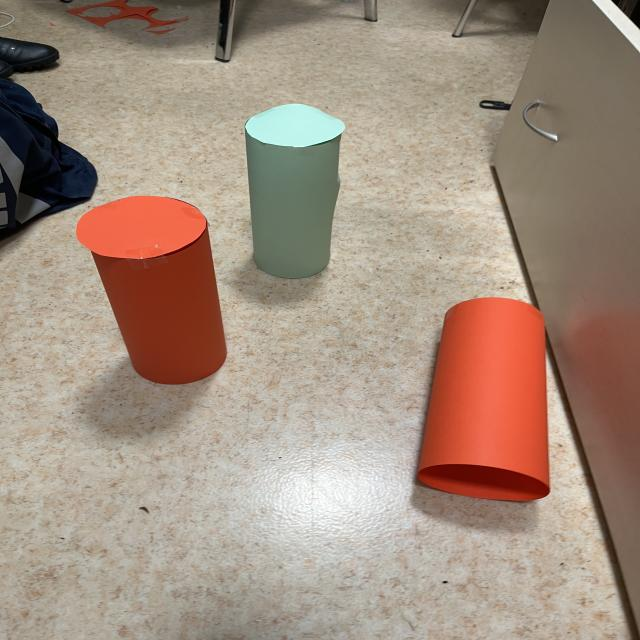meta: (245, 104, 344, 278)
przeszkoda: (76, 196, 226, 384), (419, 298, 549, 501)
